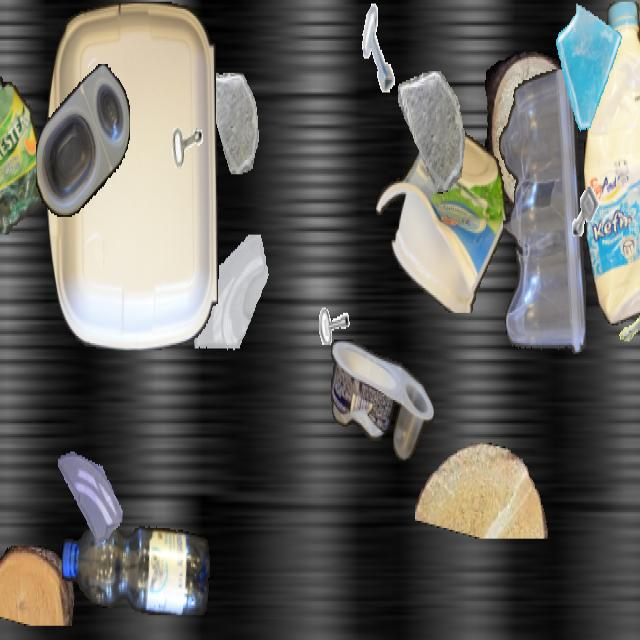glass: (192, 234, 274, 380), (552, 2, 626, 133), (398, 71, 466, 192), (58, 441, 122, 555), (204, 73, 260, 172)
metal: (153, 73, 213, 179), (354, 2, 406, 94), (602, 271, 640, 374), (309, 265, 353, 343), (564, 174, 606, 249)
plastic: (46, 2, 218, 350), (496, 69, 586, 361), (376, 124, 506, 313), (584, 2, 640, 325), (36, 64, 130, 217), (62, 519, 210, 615), (331, 340, 433, 460), (0, 21, 46, 235)
wood: (482, 52, 578, 212), (415, 442, 551, 538), (0, 546, 75, 624)
